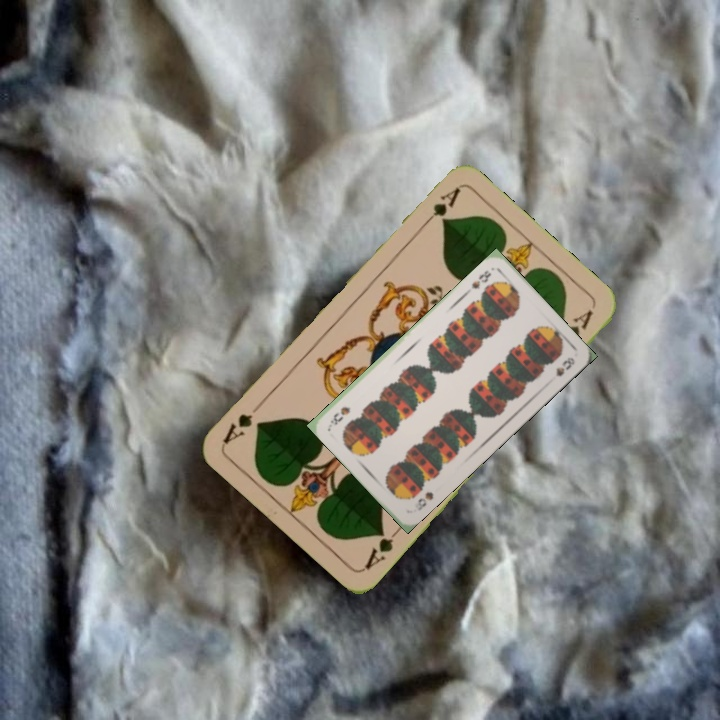GA: (416, 184, 463, 232), (360, 522, 405, 572)
S8: (467, 266, 494, 292), (411, 487, 436, 513)
